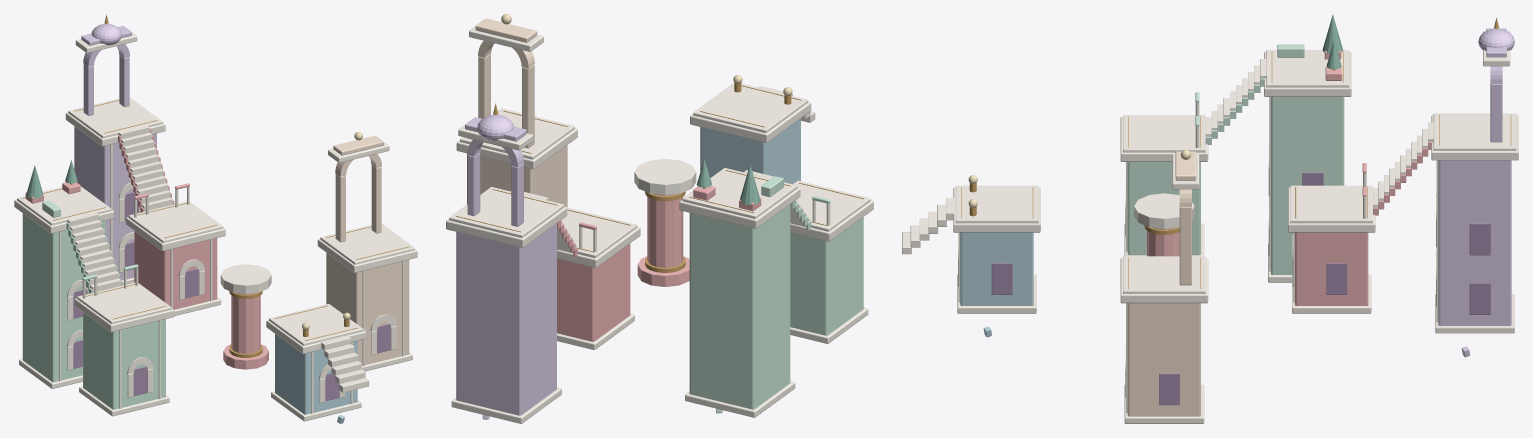
The model's file is court_1.glb.
3 views of the same model, side by side, from view 1: azimuth 30°, elevation 25°; view 2: azimuth 150°, elevation 25°; view 3: azimuth 270°, elevation 25° (orthographic). The views are drawn at different scales.
Visible parts, largest first — view 1: garden shaft, west shaft, exit shaft, north shaft, moon shaft, start shaft, north roof tile, west roof tile, start roof tile, exit roof tile, moon roof tile, garden roof tile (+24 smaller); view 2: garden shaft, moon shaft, west shaft, north shaft, start shaft, start roof tile, moon roof tile, exit shaft, dial column, garden roof tile, west roof tile, north roof tile (+24 smaller); view 3: moon shaft, garden shaft, exit shaft, start shaft, north shaft, north roof tile, start roof tile, west shaft, west roof tile, moon roof tile, exit roof tile, garden roof tile (+21 smaller).
Boxes of the visible parts, x1,y1,x2,y2 form: garden shaft: [22, 213, 105, 382]; west shaft: [83, 312, 165, 409]; exit shaft: [326, 253, 409, 365]; north shaft: [134, 231, 217, 309]; moon shaft: [74, 126, 156, 280]; start shaft: [275, 334, 357, 414]; north roof tile: [128, 201, 223, 243]; west roof tile: [77, 282, 171, 324]; start roof tile: [269, 304, 363, 345]; exit roof tile: [320, 224, 414, 264]; moon roof tile: [68, 97, 162, 138]; garden roof tile: [17, 186, 111, 225]; garden shaft: [689, 204, 790, 409]; moon shaft: [456, 223, 556, 415]; west shaft: [790, 217, 863, 335]; north shaft: [557, 243, 630, 341]; start shaft: [700, 118, 800, 184]; start roof tile: [693, 83, 808, 133]; moon roof tile: [449, 187, 564, 237]; exit shaft: [467, 145, 567, 207]; dial column: [647, 194, 683, 267]; garden roof tile: [682, 168, 797, 218]; west roof tile: [793, 180, 870, 231]; north roof tile: [561, 207, 637, 258]; moon shaft: [1438, 160, 1511, 325]; garden shaft: [1271, 97, 1344, 274]; exit shaft: [1127, 303, 1200, 416]; start shaft: [960, 232, 1033, 305]; north shaft: [1295, 232, 1368, 305]; north roof tile: [1290, 185, 1372, 223]; start roof tile: [955, 185, 1038, 223]; west shaft: [1127, 162, 1200, 255]; west roof tile: [1123, 115, 1205, 152]; moon roof tile: [1433, 113, 1516, 150]; exit roof tile: [1123, 256, 1205, 293]; garden roof tile: [1266, 50, 1349, 87].
Size of the model in its own units: 10.6 by 9.61 by 15.49.
